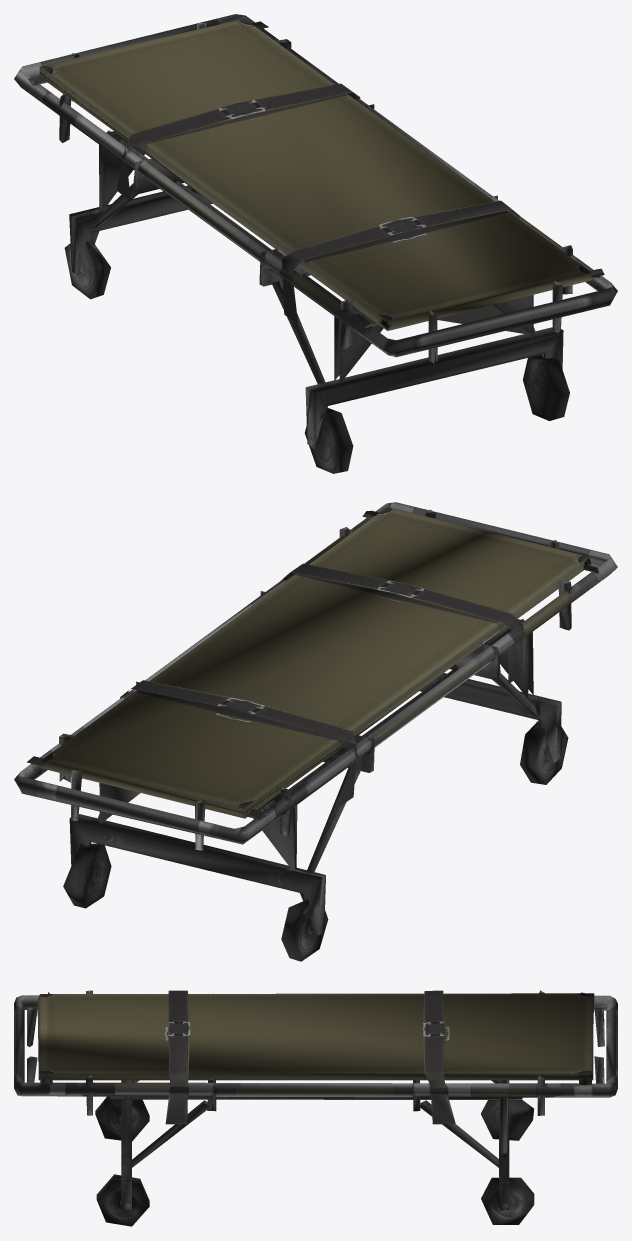
Rendered from Meshy_AI_Military_stretcher_ca_0907133135_texture.fbx.
3 renders of one model, top to bottom at view 1: azimuth 30°, elevation 25°; view 2: azimuth 150°, elevation 25°; view 3: azimuth 270°, elevation 25°, orthographic. The views are drawn at different scales.
Parts seen in each view (by area): view 1: mesh_node; view 2: mesh_node; view 3: mesh_node.
Part boxes in pixels (x1,y1,x2,y2): mesh_node: (14,14,617,473); mesh_node: (14,502,617,961); mesh_node: (14,990,617,1226).
Bounding box in the file's own units: 38.48 × 28.03 × 100.
1 material, 1 textured.
